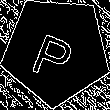P_N: (30, 20, 82, 81)
